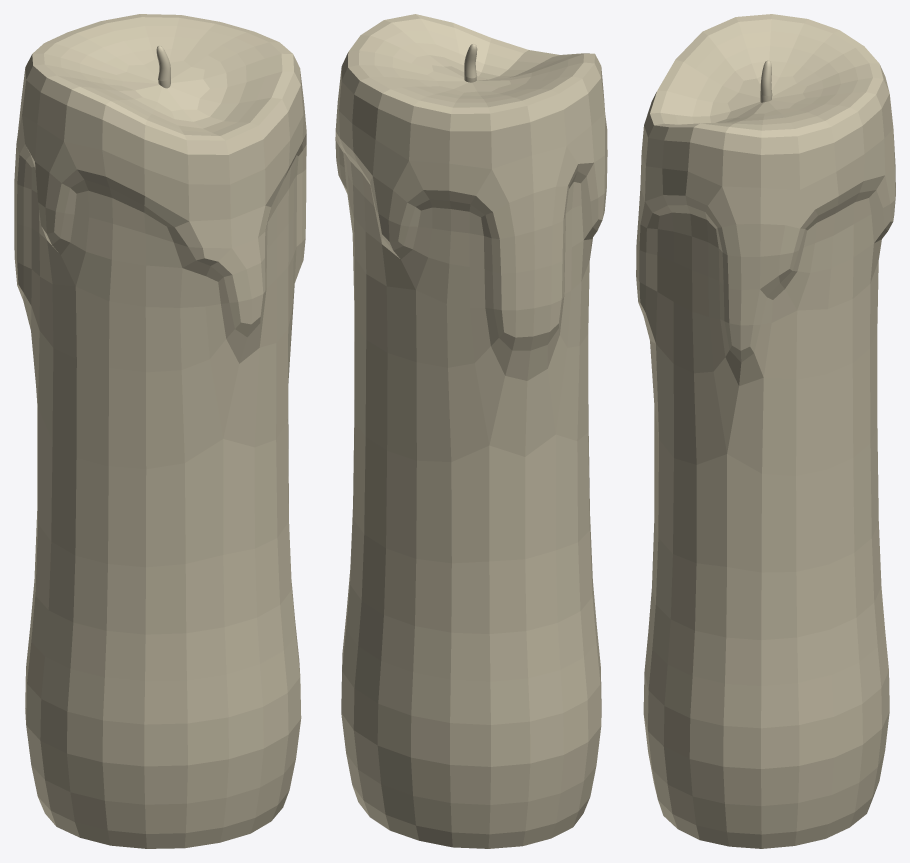
The model's file is CandleFrumpyTall.fbx.
3 views of the same model, side by side, from view 1: azimuth 30°, elevation 25°; view 2: azimuth 150°, elevation 25°; view 3: azimuth 270°, elevation 25° (orthographic). The views are drawn at different scales.
Visible parts, largest first — view 1: TallFrumpyCandle; view 2: TallFrumpyCandle; view 3: TallFrumpyCandle.
Part boxes in pixels (x1,y1,x2,y2): TallFrumpyCandle: (14,14,306,848); TallFrumpyCandle: (335,14,607,848); TallFrumpyCandle: (636,14,895,848).
Bounding box in the file's own units: 8.51 × 24.58 × 7.75.
